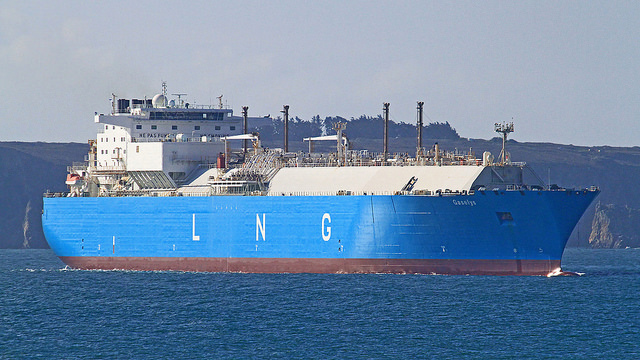LNG_ship: (39, 91, 606, 286)
